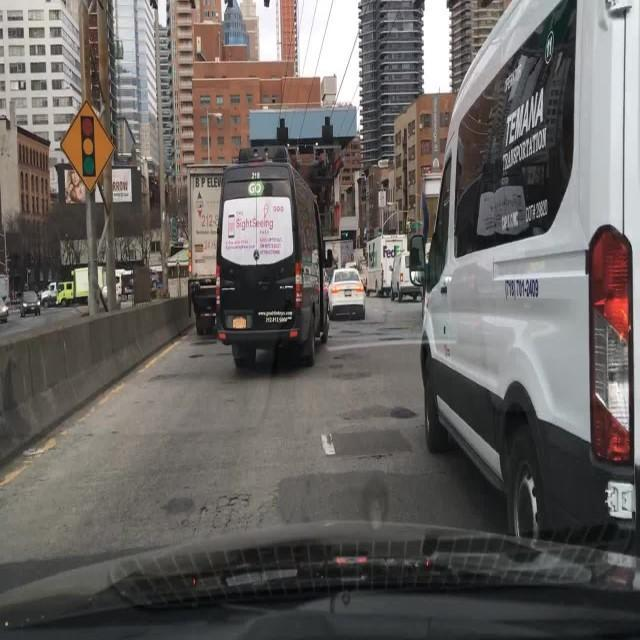normal: (413, 0, 640, 558), (217, 161, 330, 373), (328, 267, 368, 320), (21, 291, 43, 316)
